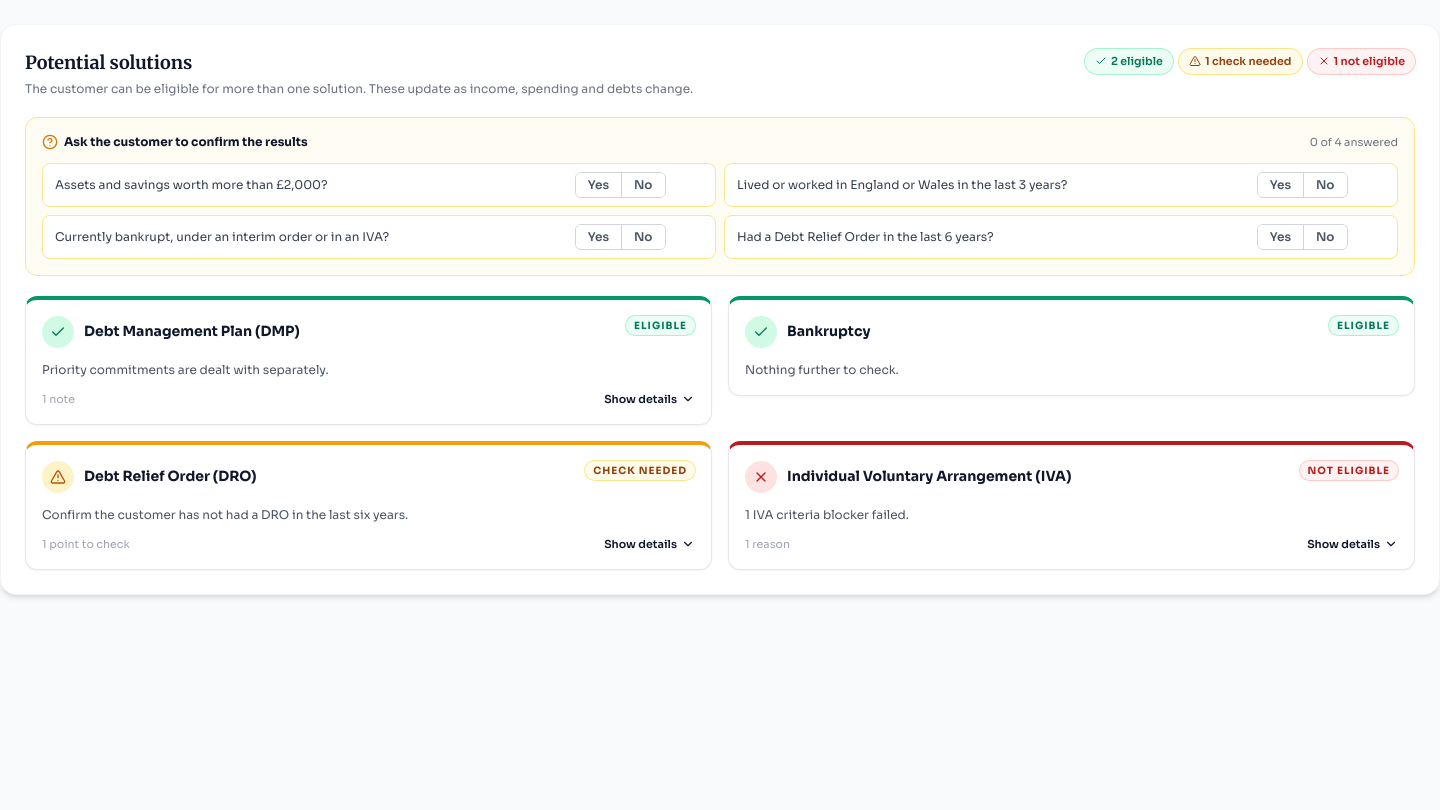
Test: SolutionOptions › lists eligible solutions first and expands a card to show every point
Click the button that starts with "Debt Management Plan (DMP)".
click(58, 332)  # box [26,300,711,424]
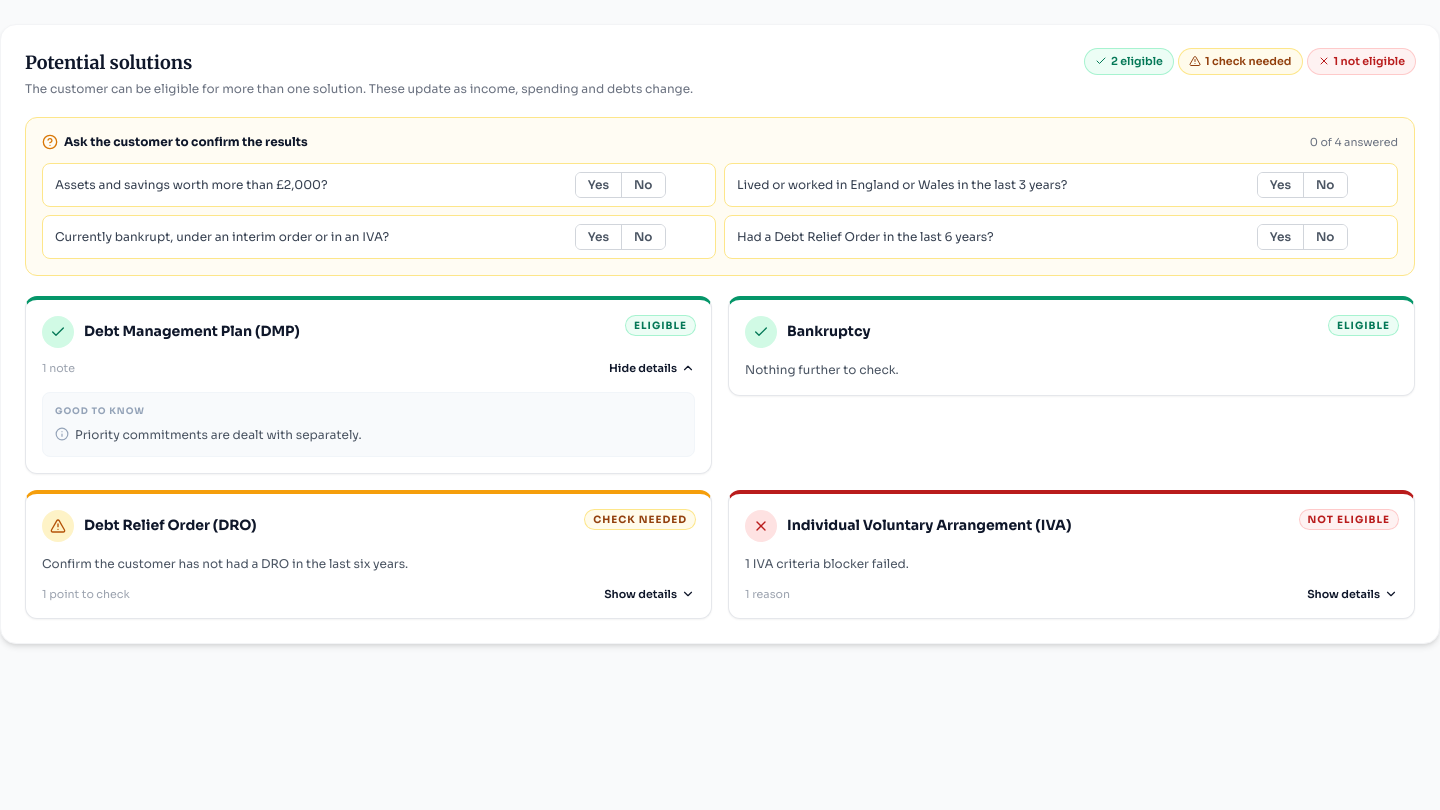
Now the button "Debt Management Plan (DMP) Eligible 1 note Hide details" is expanded, box [26,300,711,392]
Now the text "Good to know" is shown, box [55,405,145,417]
